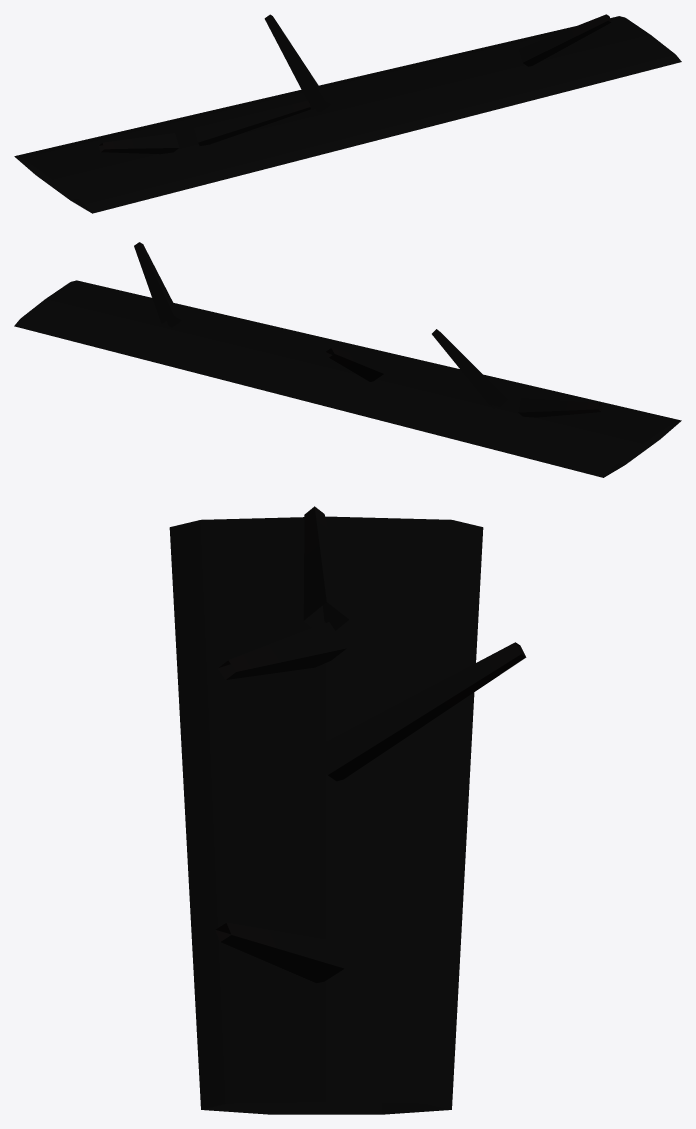
The model's file is fallen_log_a.glb.
3 renders of one model, top to bottom at view 1: azimuth 30°, elevation 25°; view 2: azimuth 150°, elevation 25°; view 3: azimuth 270°, elevation 25°, orthographic. The views are drawn at different scales.
Parts seen in each view (by area): view 1: fallen_log_a; view 2: fallen_log_a; view 3: fallen_log_a.
Boxes of the visible parts, x1,y1,x2,y2 form: fallen_log_a: (14, 14, 681, 213); fallen_log_a: (14, 242, 681, 477); fallen_log_a: (169, 506, 526, 1114).
Bounding box in the file's own units: 2.72 × 0.3239 × 0.7031.
1 material, 1 textured.
